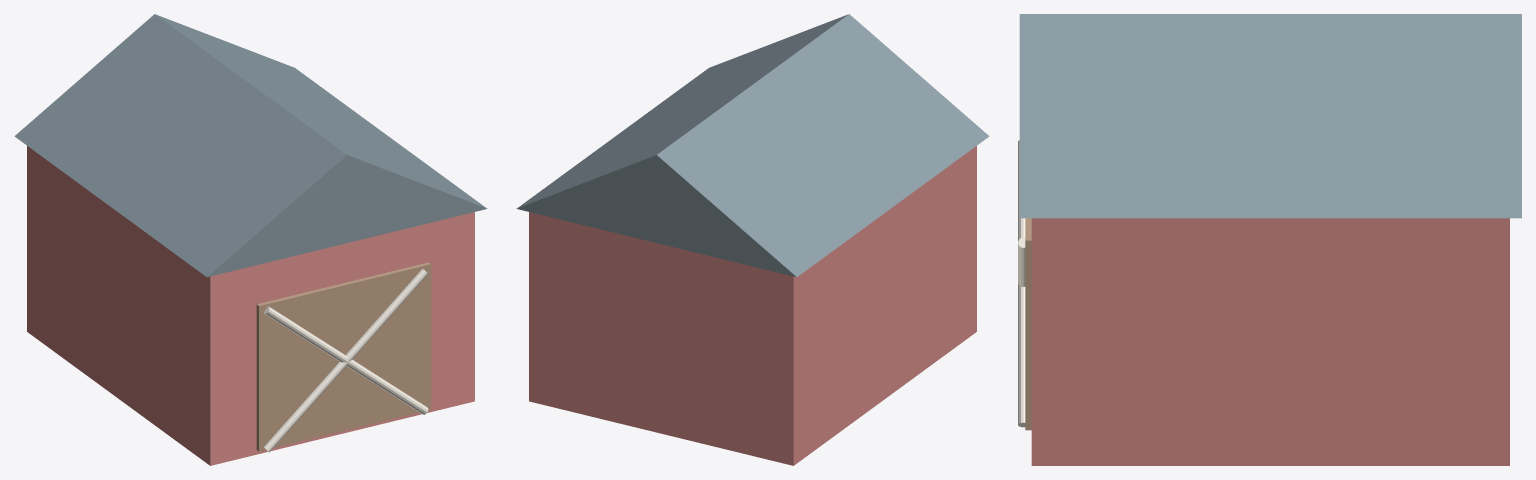
The model's file is barn.glb.
3 renders of one model, left to right at view 1: azimuth 30°, elevation 25°; view 2: azimuth 150°, elevation 25°; view 3: azimuth 270°, elevation 25°, orthographic. The views are drawn at different scales.
Visible parts, largest first — view 1: barn_001, barn_000, barn_002, barn_003, barn_004; view 2: barn_000, barn_001; view 3: barn_000, barn_001, barn_002, barn_004.
Boxes of the visible parts, bbox=[...] form: barn_001: bbox=[14, 14, 487, 277]; barn_000: bbox=[27, 146, 474, 465]; barn_002: bbox=[256, 262, 431, 451]; barn_003: bbox=[264, 268, 427, 452]; barn_004: bbox=[263, 306, 428, 414]; barn_000: bbox=[529, 146, 976, 465]; barn_001: bbox=[516, 14, 989, 277]; barn_000: bbox=[1031, 218, 1509, 465]; barn_001: bbox=[1019, 14, 1521, 218]; barn_002: bbox=[1025, 218, 1031, 430]; barn_004: bbox=[1018, 140, 1025, 427].
Size of the model in its own units: 5.3 by 5.09 by 6.32.
